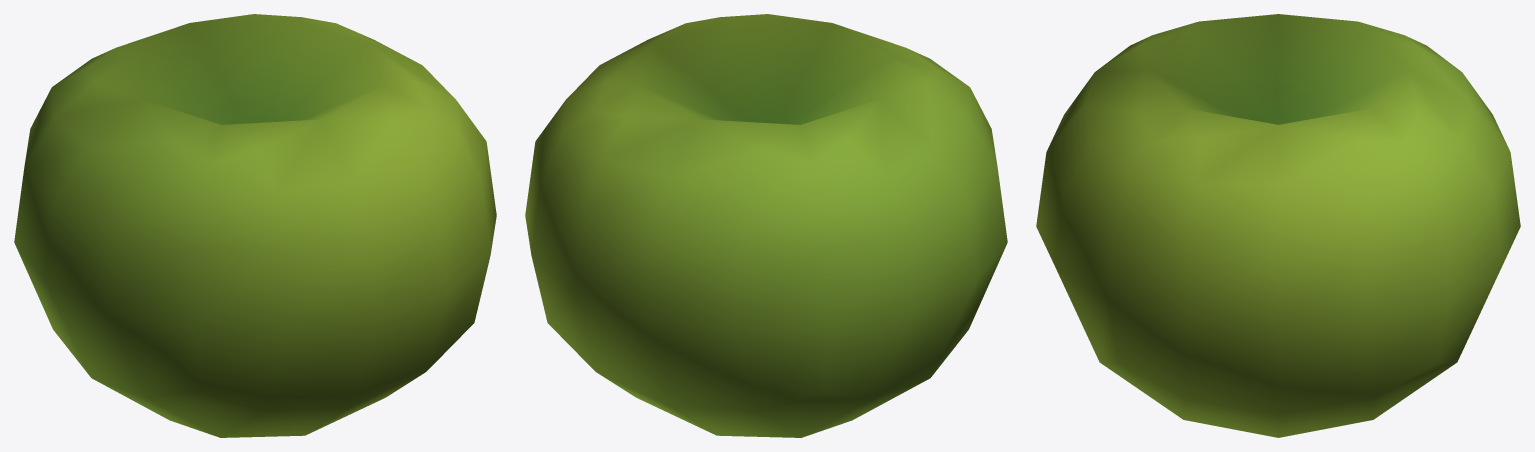
Rendered from greens_006.fbx.
3 renders of one model, left to right at view 1: azimuth 30°, elevation 25°; view 2: azimuth 150°, elevation 25°; view 3: azimuth 270°, elevation 25°, orthographic.
Parts seen in each view (by area): view 1: greens_006; view 2: greens_006; view 3: greens_006.
Part boxes in pixels (x1,y1,x2,y2): greens_006: [14, 14, 496, 437]; greens_006: [525, 14, 1007, 437]; greens_006: [1036, 14, 1520, 437].
Bounding box in the file's own units: 2.18 × 2.18 × 1.71.
